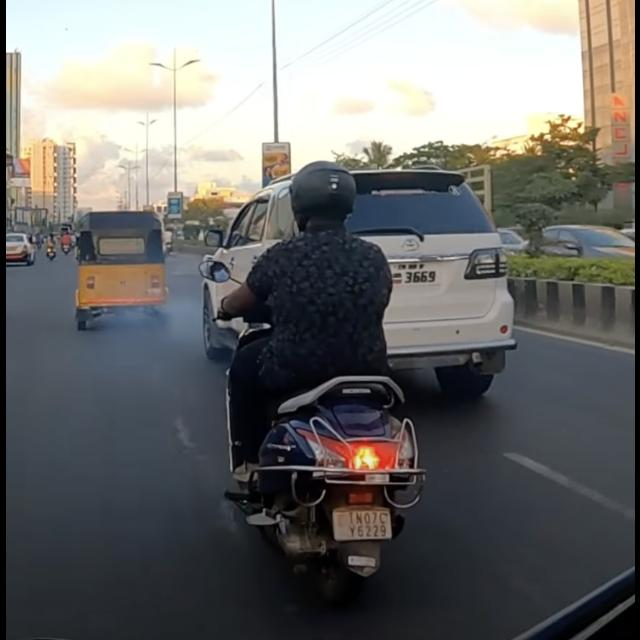with helmet: (288, 162, 354, 220)
